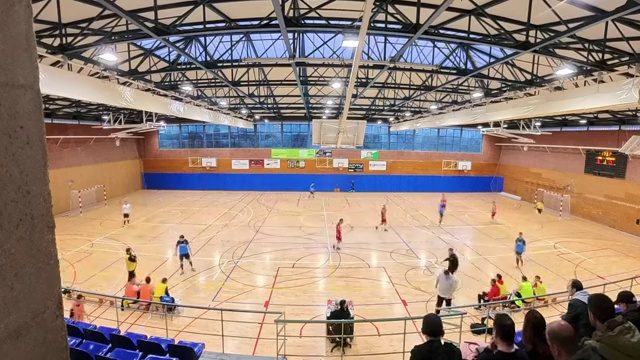players blue shirt: (176, 235, 193, 273), (515, 232, 526, 269), (438, 206, 444, 223), (309, 183, 315, 197)
players red shirt: (333, 219, 343, 250), (376, 205, 387, 230), (491, 201, 494, 219), (440, 196, 445, 203)
